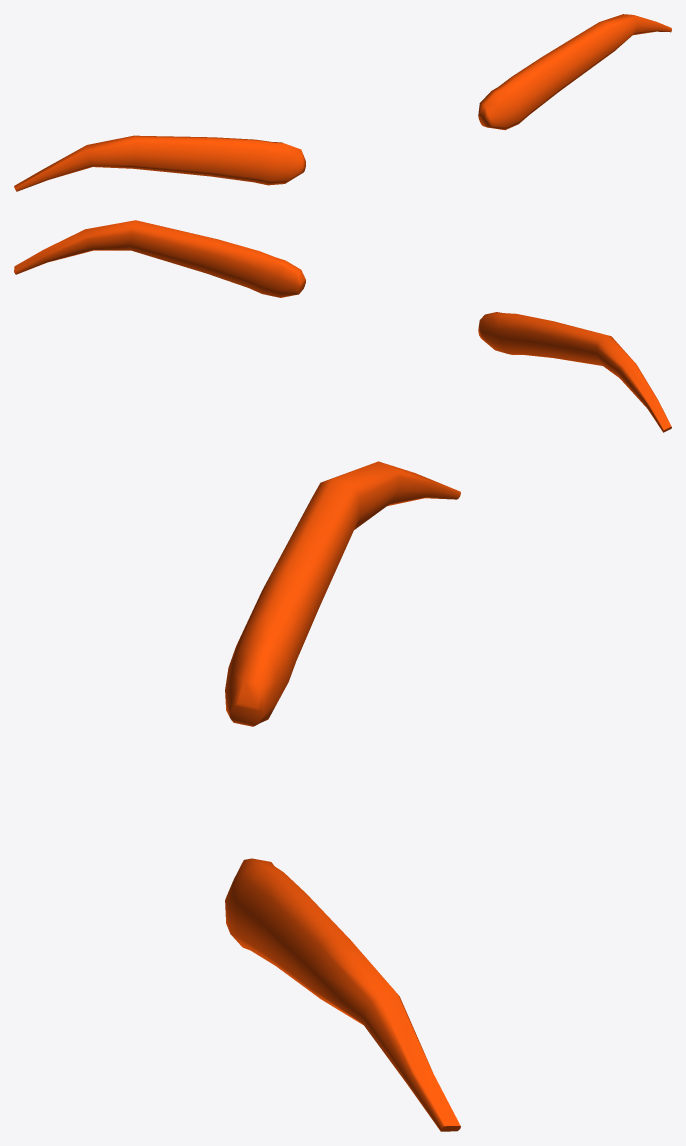
File: Eyebrows_14_06.fbx
The picture shows the model from 3 angles, top to bottom: view 1: azimuth 30°, elevation 25°; view 2: azimuth 150°, elevation 25°; view 3: azimuth 270°, elevation 25°; orthographic projection. The views are drawn at different scales.
Parts seen in each view (by area): view 1: Eyebrows_14_06; view 2: Eyebrows_14_06; view 3: Eyebrows_14_06.
Part boxes in pixels (x1,y1,x2,y2): Eyebrows_14_06: (14,14,671,191); Eyebrows_14_06: (14,220,671,432); Eyebrows_14_06: (225,461,460,1131).
Bounding box in the file's own units: 19.11 × 1.7 × 2.97.
